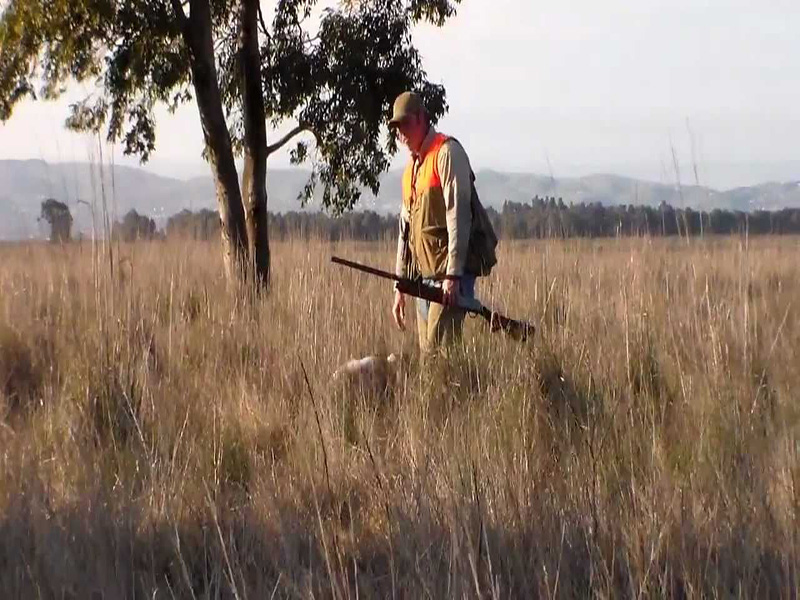cacciatore: (366, 96, 510, 391)
